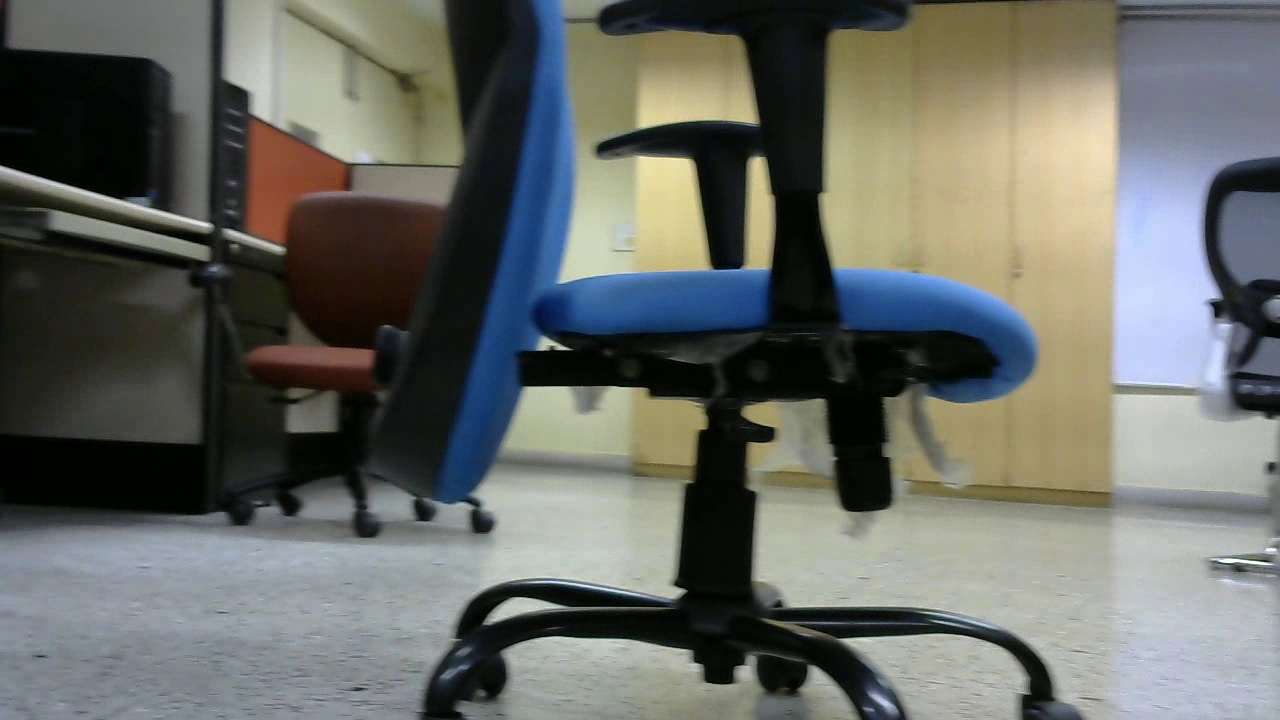chair: (384, 2, 1091, 720), (191, 191, 502, 528)
